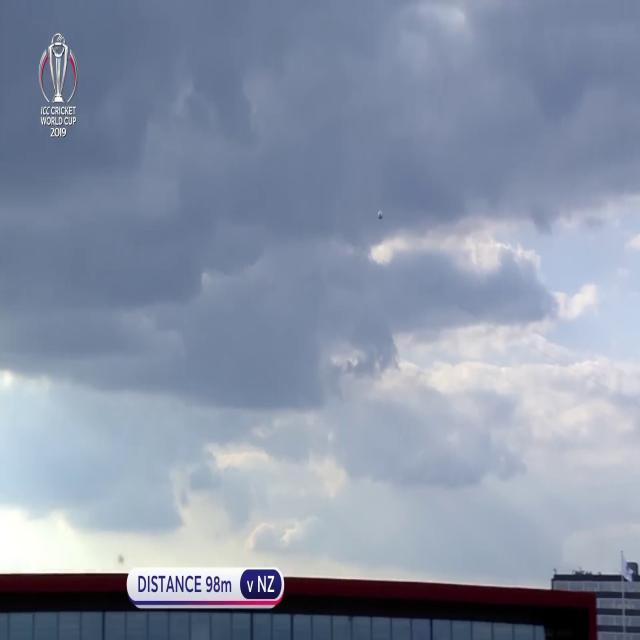ball: (374, 208, 385, 222)
